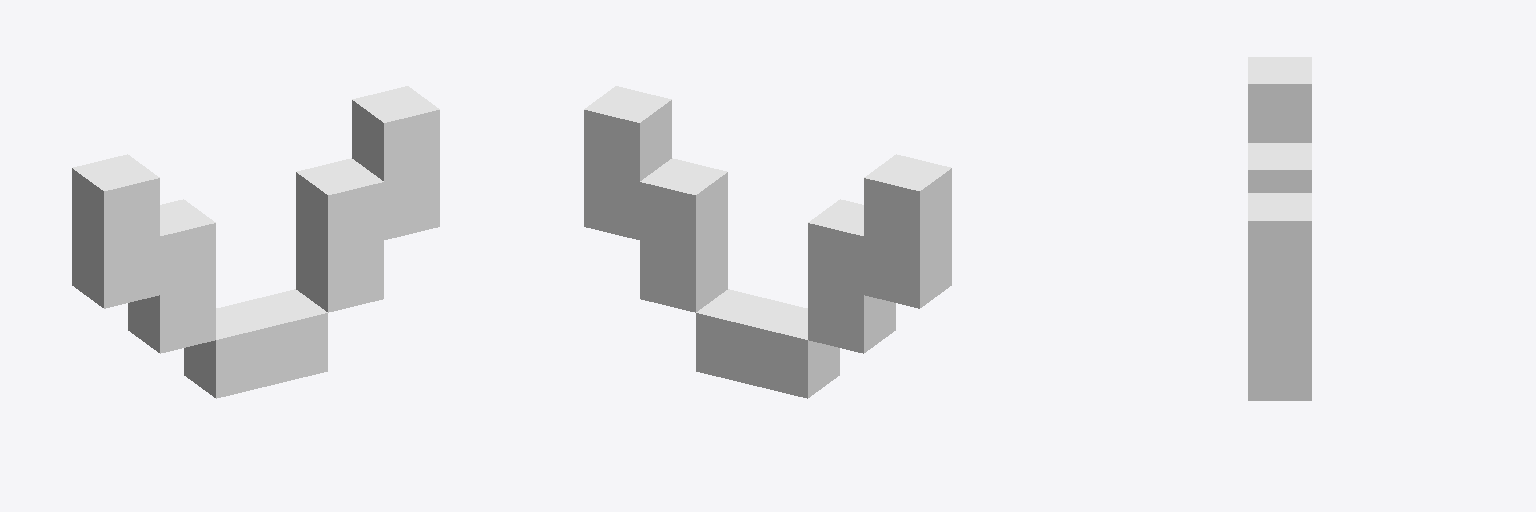
File: grandma01-12.obj
3 renders of one model, left to right at view 1: azimuth 30°, elevation 25°; view 2: azimuth 150°, elevation 25°; view 3: azimuth 270°, elevation 25°, orthographic.
Visible parts, largest first — view 1: grandma01-12; view 2: grandma01-12; view 3: grandma01-12.
Boxes of the visible parts, <box> form: grandma01-12: <box>72,86,439,398</box>; grandma01-12: <box>584,86,951,398</box>; grandma01-12: <box>1248,57,1311,400</box>.
Size of the model in its own units: 6 by 4 by 1.